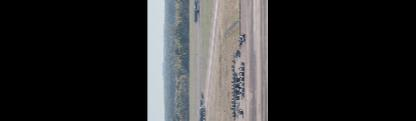B2: (191, 89, 206, 119), (187, 0, 200, 23)
